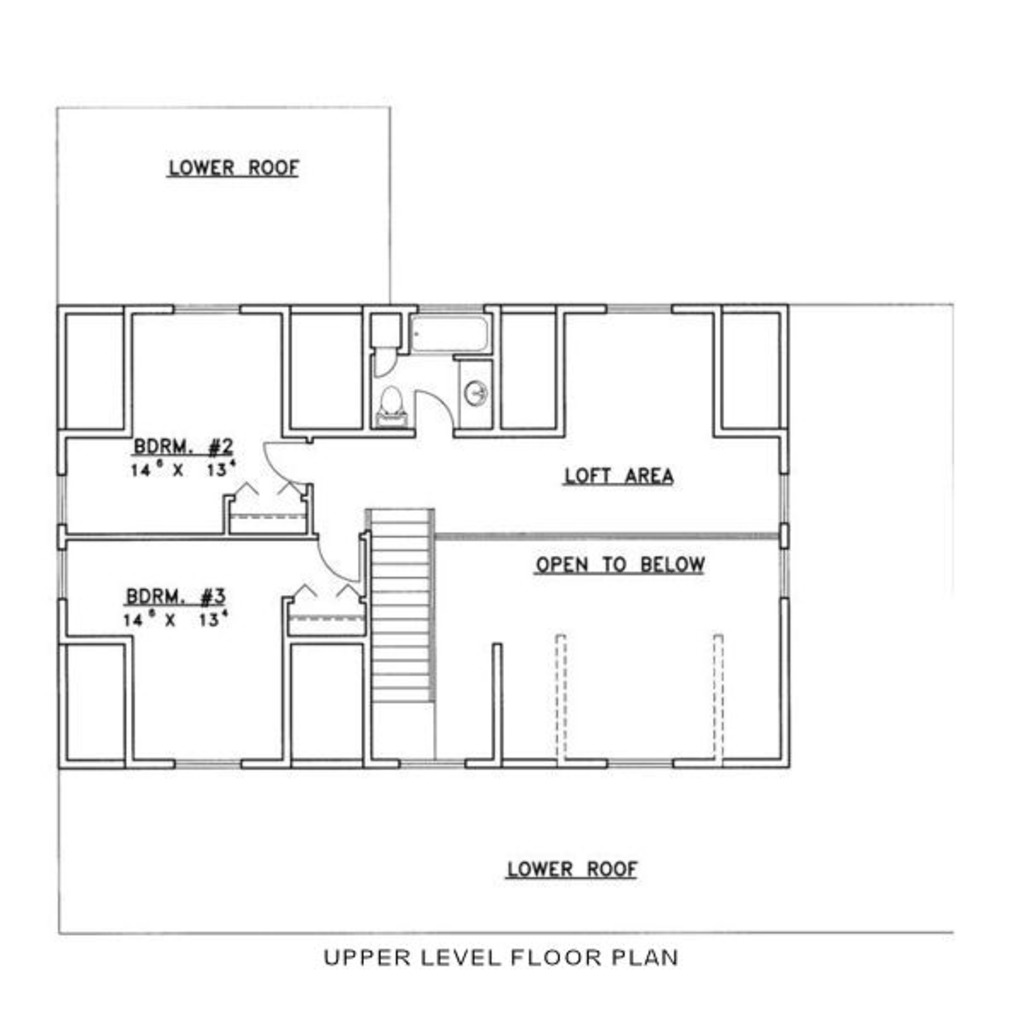door: (263, 438, 322, 491), (411, 383, 458, 436)
large_sink: (372, 383, 411, 424)
small_sink: (461, 369, 494, 427)
stairs: (366, 500, 452, 739)
tub: (411, 316, 492, 357)
window: (169, 303, 259, 317), (414, 302, 497, 314), (605, 303, 681, 316), (177, 760, 239, 769)
